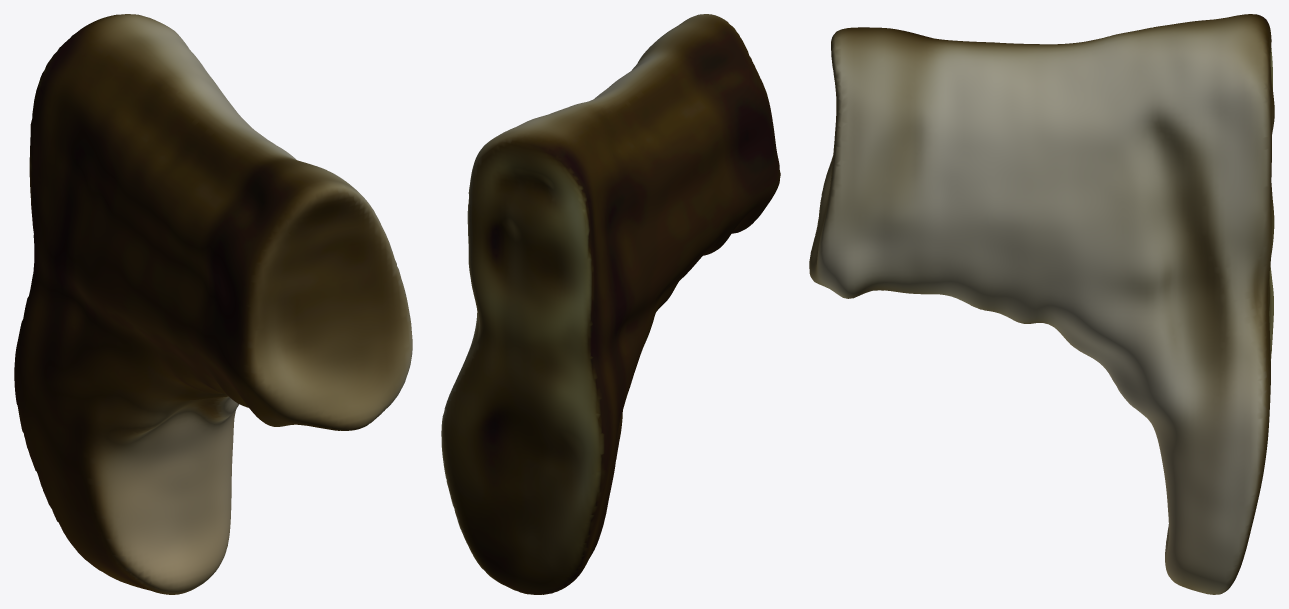
File: shoe1.glb
3 renders of one model, left to right at view 1: azimuth 30°, elevation 25°; view 2: azimuth 150°, elevation 25°; view 3: azimuth 270°, elevation 25°, orthographic. The views are drawn at different scales.
Size of the model in its own units: 0.3723 by 0.9997 by 0.7633.
